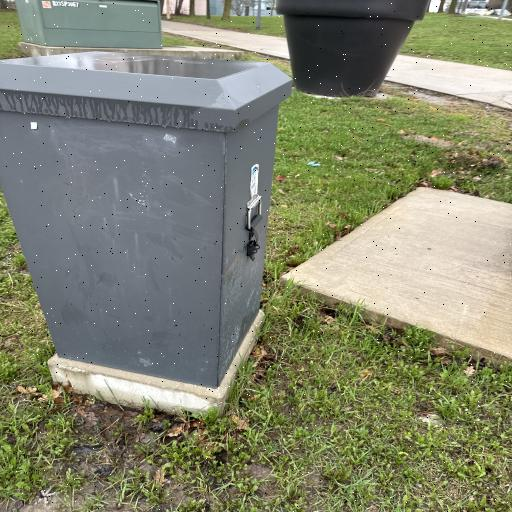Electrical Box: (1, 51, 296, 415), (8, 0, 168, 49)
